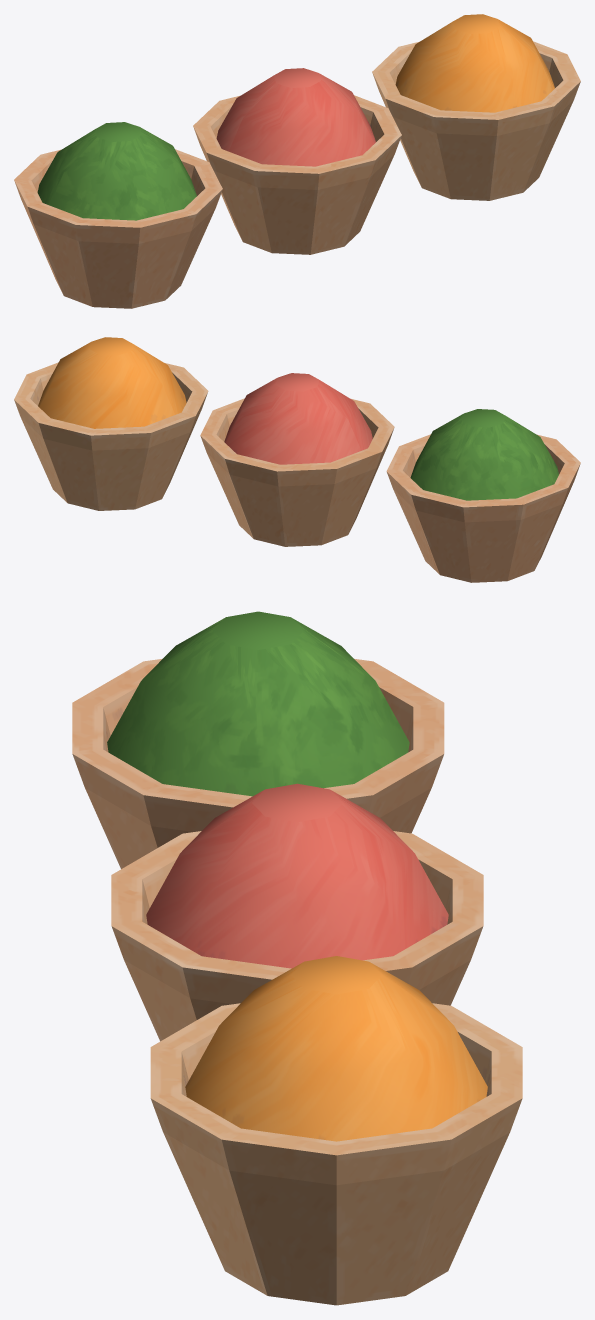
Rendered from baskets.fbx.
3 views of the same model, one above another, from view 1: azimuth 30°, elevation 25°; view 2: azimuth 150°, elevation 25°; view 3: azimuth 270°, elevation 25° (orthographic). The views are drawn at different scales.
Parts seen in each view (by area): view 1: baskets; view 2: baskets; view 3: baskets.
Boxes of the visible parts, x1,y1,x2,y2 form: baskets: (14, 14, 580, 308); baskets: (14, 337, 580, 582); baskets: (72, 611, 522, 1305).
Size of the model in its own units: 3.7 by 0.95 by 1.38.
1 material, 1 textured.
